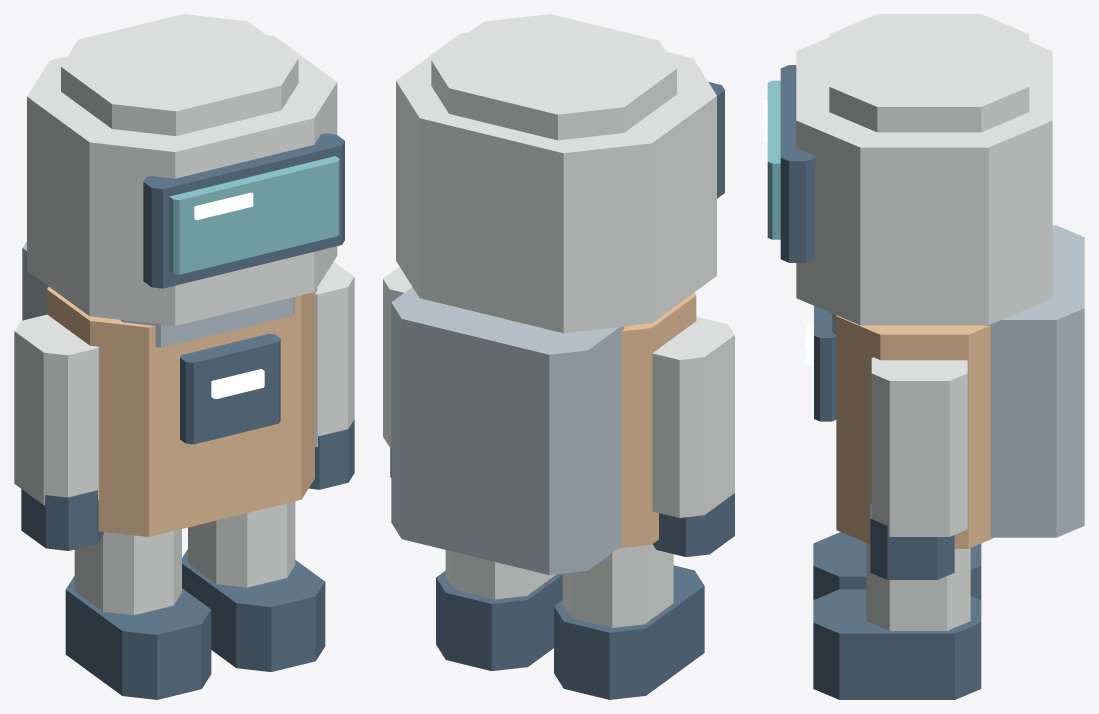
Rendered from astronauta.glb.
The picture shows the model from 3 angles, left to right: view 1: azimuth 30°, elevation 25°; view 2: azimuth 150°, elevation 25°; view 3: azimuth 270°, elevation 25°; orthographic projection. The views are drawn at different scales.
Parts seen in each view (by area): view 1: astronauta; view 2: astronauta; view 3: astronauta.
Boxes of the visible parts, box(x1,y1,x2,y2) form: astronauta: box(14, 14, 354, 699); astronauta: box(383, 14, 734, 699); astronauta: box(763, 14, 1084, 699).
Bounding box in the file's own units: 0.916 × 1.62 × 0.8025.
